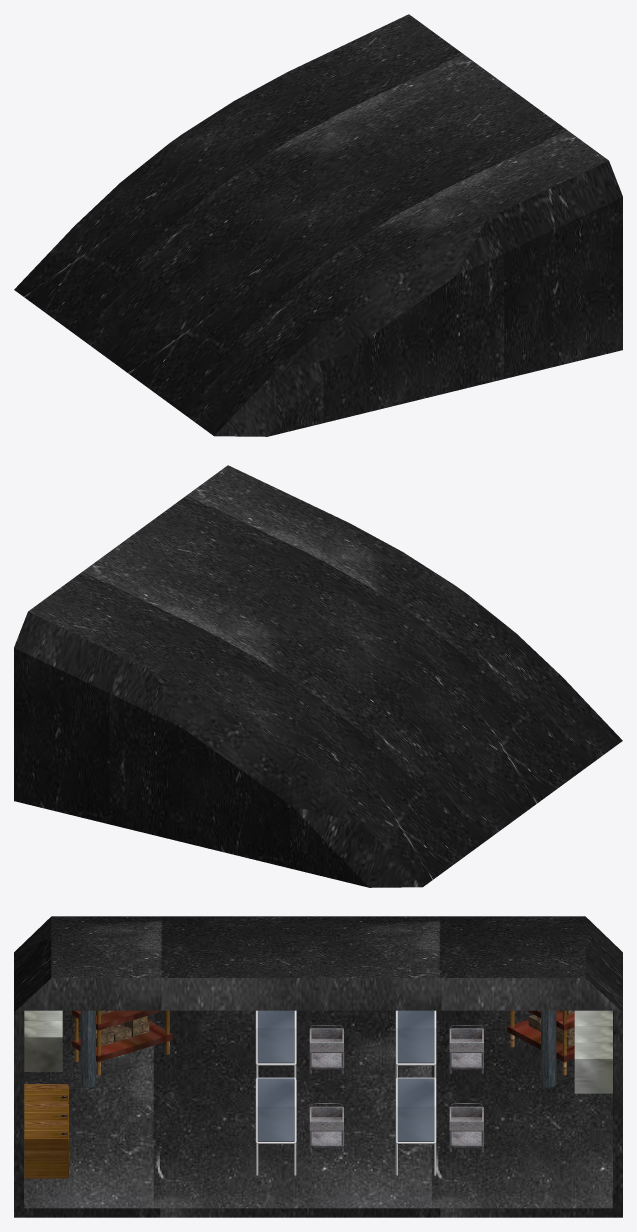
File: sağlıkYer.fbx
3 views of the same model, one above another, from view 1: azimuth 30°, elevation 25°; view 2: azimuth 150°, elevation 25°; view 3: azimuth 270°, elevation 25° (orthographic). The views are drawn at different scales.
Visible parts, largest first — view 1: Plane; view 2: Plane; view 3: Plane, Cube, Cylinder.004, Cylinder.005, Cube.018, Cylinder, Cylinder.081, Cylinder.003, Cube.001, Plane.001, HareketliMasa.002, HareketliMasa.001 (+6 smaller).
Boxes of the visible parts, x1=… form: Plane: x1=14, y1=14, x2=622, y2=436; Plane: x1=14, y1=465, x2=622, y2=887; Plane: x1=14, y1=916, x2=622, y2=1217; Cube: x1=574, y1=1010, x2=612, y2=1093; Cylinder.004: x1=255, y1=1077, x2=296, y2=1180; Cylinder.005: x1=395, y1=1077, x2=436, y2=1180; Cube.018: x1=24, y1=1120, x2=68, y2=1178; Cylinder: x1=80, y1=1010, x2=556, y2=1087; Cylinder.081: x1=395, y1=1010, x2=436, y2=1099; Cylinder.003: x1=255, y1=1010, x2=296, y2=1099; Cube.001: x1=24, y1=1010, x2=62, y2=1071; Plane.001: x1=72, y1=1010, x2=172, y2=1061; HareketliMasa.002: x1=309, y1=1103, x2=344, y2=1152; HareketliMasa.001: x1=309, y1=1025, x2=344, y2=1073.
Size of the model in its own units: 849 by 367 by 845.
Materials: 11 (10 with a texture image).
